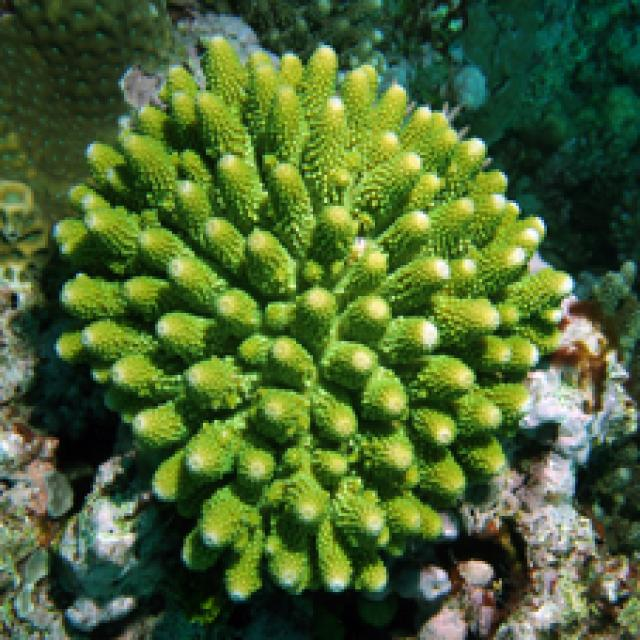Healthy: (46, 40, 613, 624)
